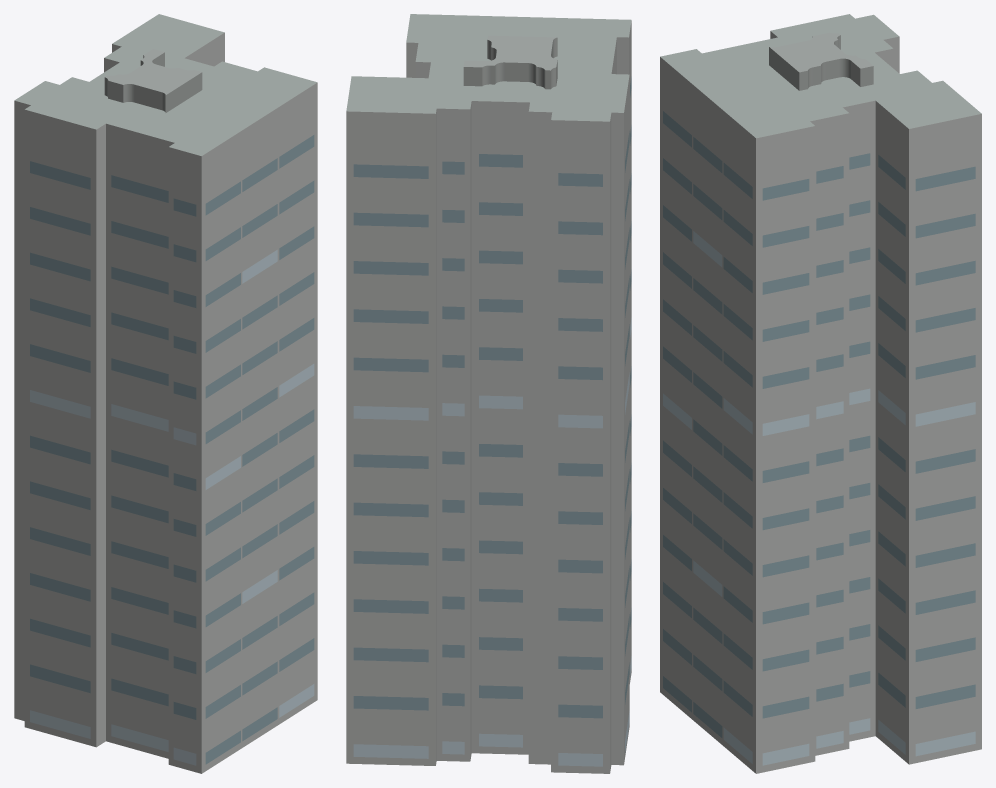
Rendered from fallback-onebailey-114.glb.
The picture shows the model from 3 angles, left to right: view 1: azimuth 30°, elevation 25°; view 2: azimuth 150°, elevation 25°; view 3: azimuth 270°, elevation 25°; orthographic projection. The views are drawn at different scales.
Parts seen in each view (by area): view 1: fallback-onebailey-114; view 2: fallback-onebailey-114; view 3: fallback-onebailey-114.
Boxes of the visible parts, x1=… form: fallback-onebailey-114: x1=14, y1=14, x2=317, y2=773; fallback-onebailey-114: x1=346, y1=14, x2=631, y2=773; fallback-onebailey-114: x1=660, y1=14, x2=981, y2=773.
Bounding box in the file's own units: 34.67 × 85 × 37.92.
